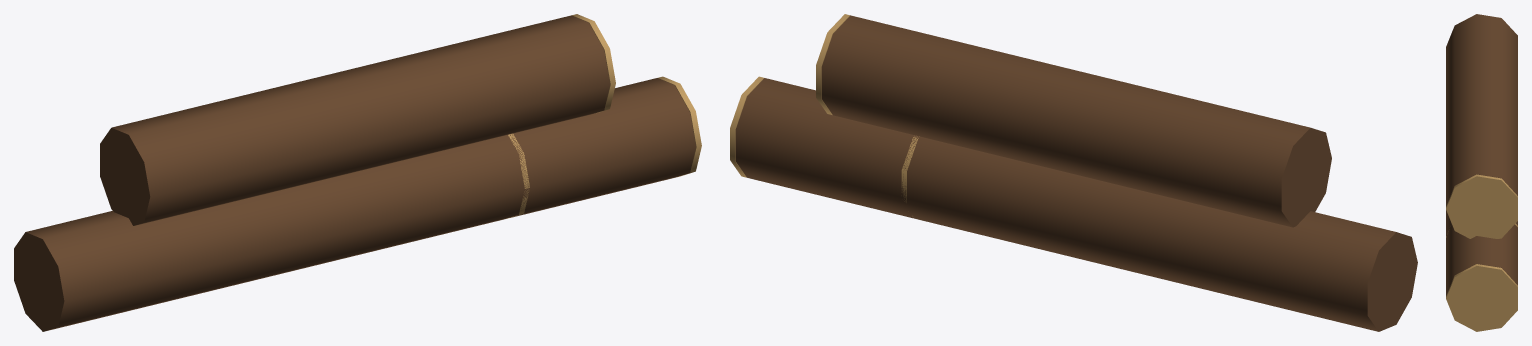
File: pine_log_stack.glb
3 renders of one model, left to right at view 1: azimuth 30°, elevation 25°; view 2: azimuth 150°, elevation 25°; view 3: azimuth 270°, elevation 25°, orthographic. The views are drawn at different scales.
Visible parts, largest first — view 1: pine_log_stack; view 2: pine_log_stack; view 3: pine_log_stack.
Boxes of the visible parts, box(x1,y1,x2,y2) form: pine_log_stack: box(14, 14, 701, 331); pine_log_stack: box(730, 14, 1417, 331); pine_log_stack: box(1446, 14, 1517, 331).
Size of the model in its own units: 3.12 by 0.8233 by 0.4267.
